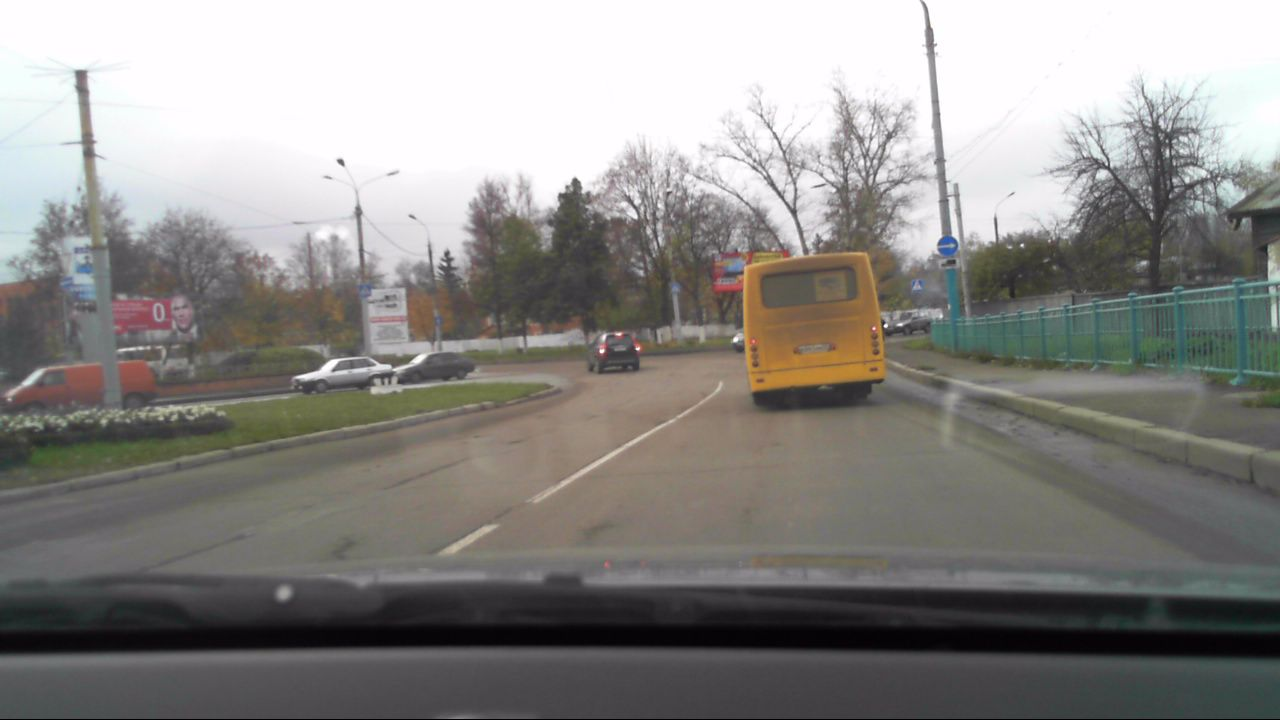Turn Right: (937, 236, 959, 257)
